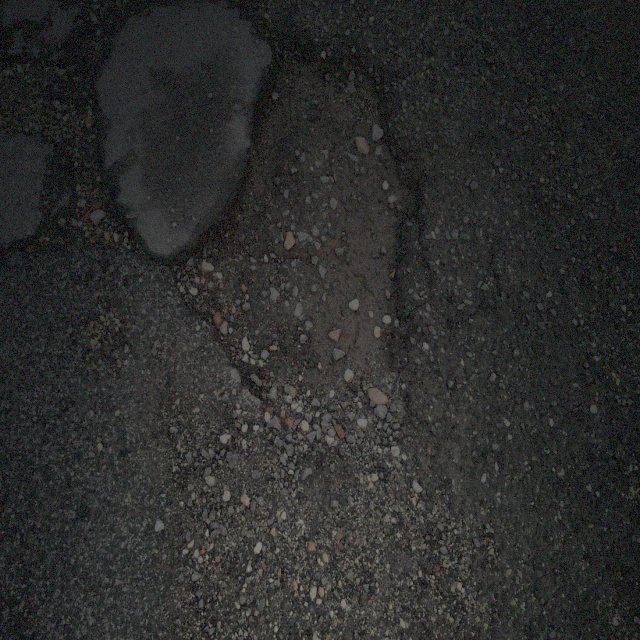pothole: (170, 43, 435, 462)
